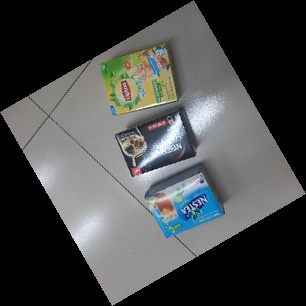CF Viet: (115, 110, 201, 180)
LipTon: (100, 41, 181, 112)
Nestea: (145, 165, 226, 239)
